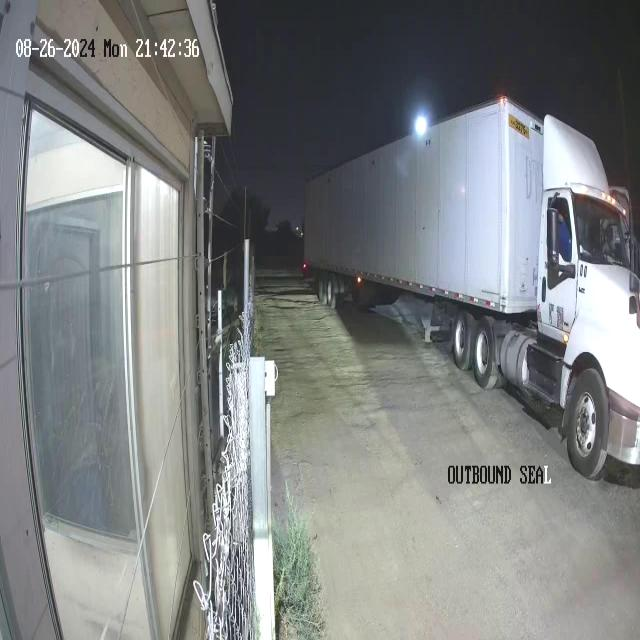CONTAINER: (303, 94, 545, 308)
